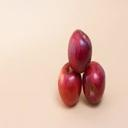apple: (82, 61, 106, 107)
